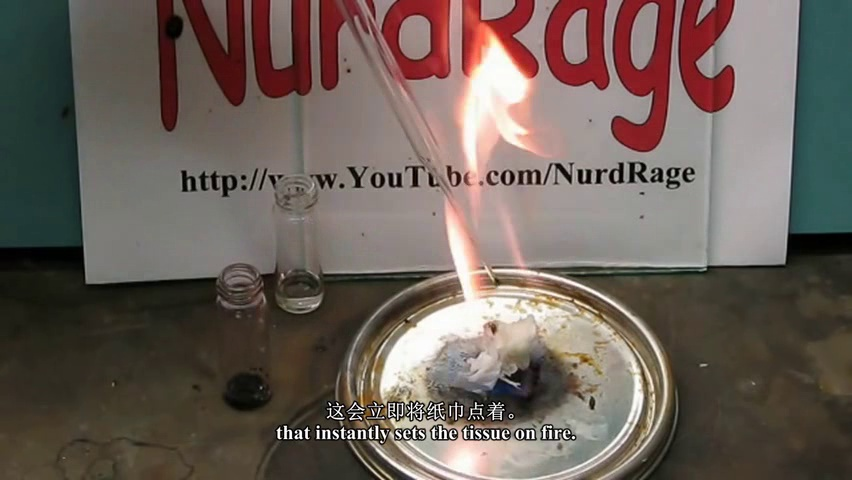fire: (433, 21, 555, 364)
